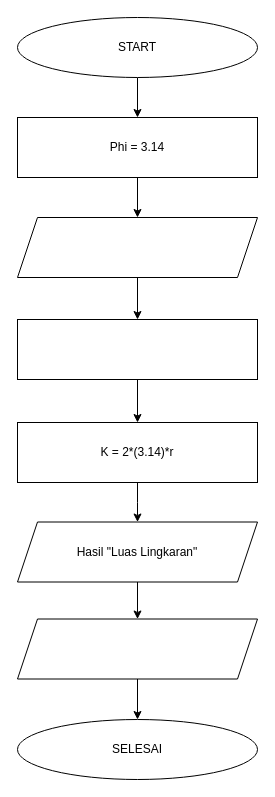
Image size: 275x797. Some labels were removed from this diagram. The shapes that lost their labels are listed below. From the top down, each one's box as (x1, y1, x2, y2) in pixels, then its label:
(16, 216, 258, 278): Masukkan nilai "r"
(16, 318, 258, 380): L = (3.14)*r*r
(16, 618, 258, 679): Hasil "Keliling Lingkaran"
